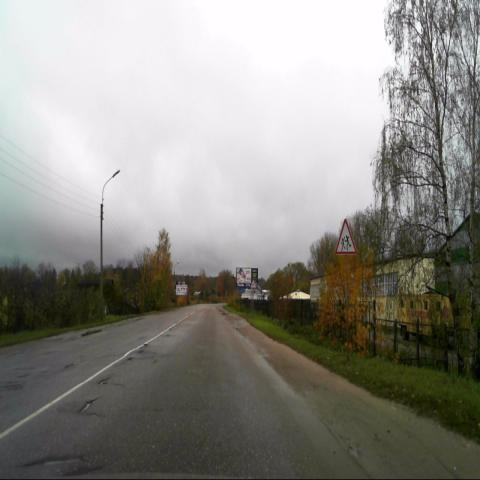1_23: (334, 216, 356, 255)
